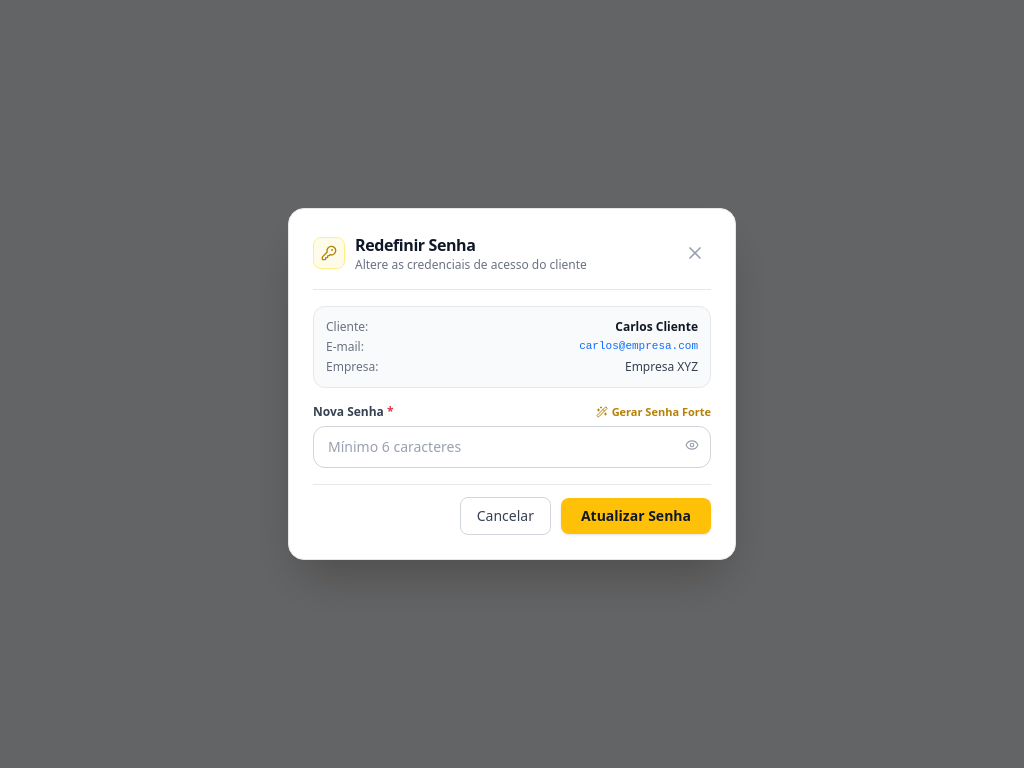
components/suporte/ResetPasswordModal › should display server error message when action fails
The width and height of the screenshot is (1024, 768).
Type "SenhaCorreta@123" into the password field with placeholder "Mínimo 6 caracteres" at (512, 447), box top-left (313, 426), bottom-right (711, 468)
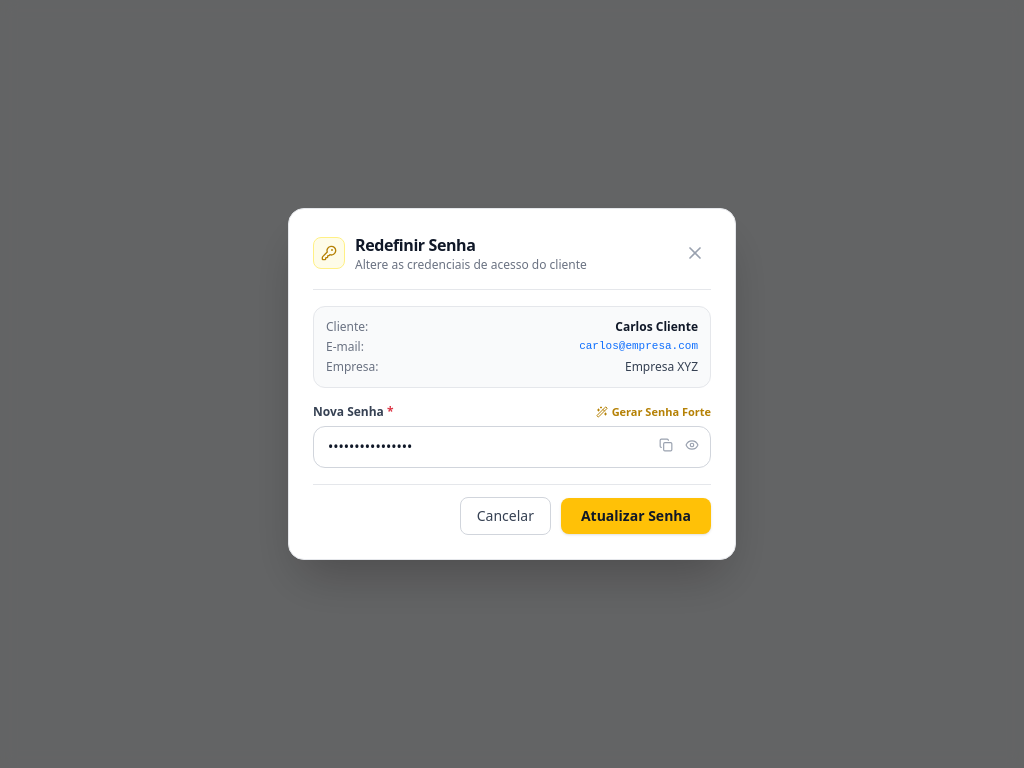
Click the button "Atualizar Senha" at (636, 516), box top-left (561, 498), bottom-right (711, 534)
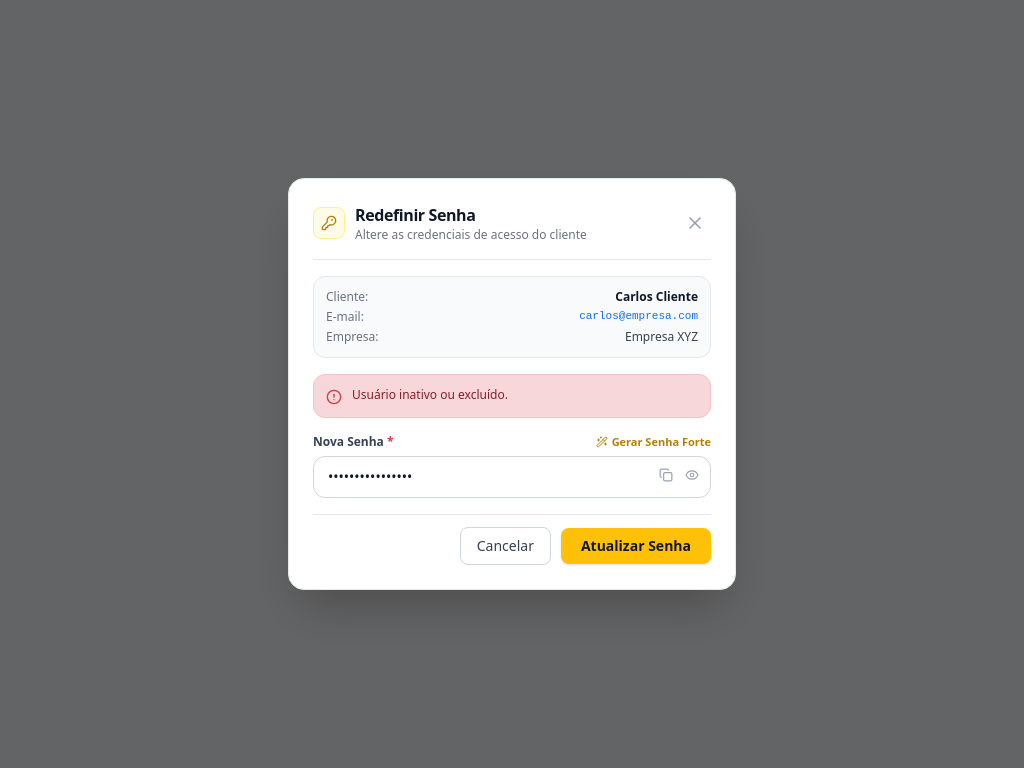
Expected: the text "Usuário inativo ou excluído." is shown, top-left (352, 387), bottom-right (508, 403)
